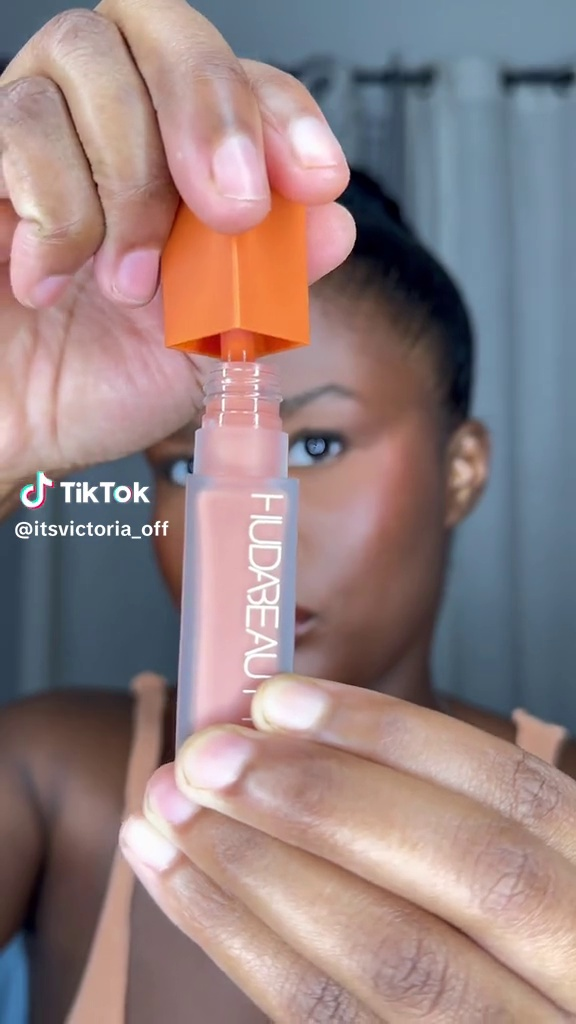train' :'yolo_data/train/images',: (147, 140, 318, 770)
